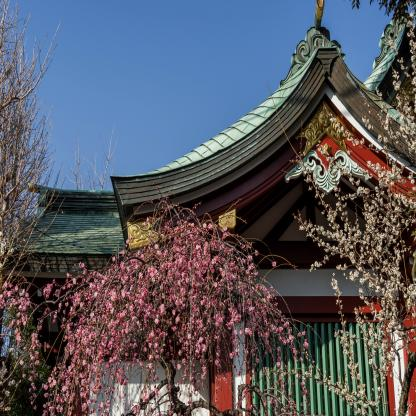Ume: (1, 182, 311, 416), (267, 2, 416, 416)
